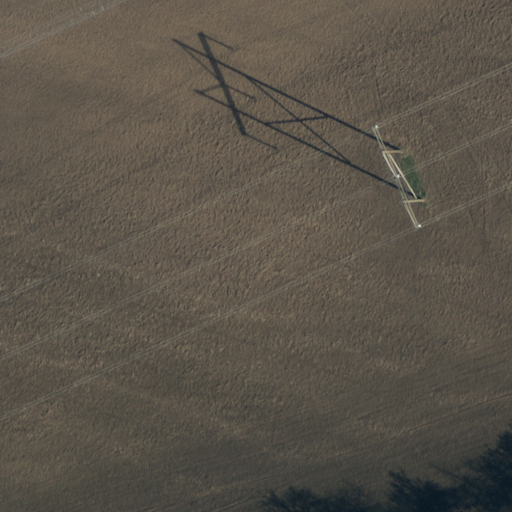TT: (370, 123, 424, 230)
